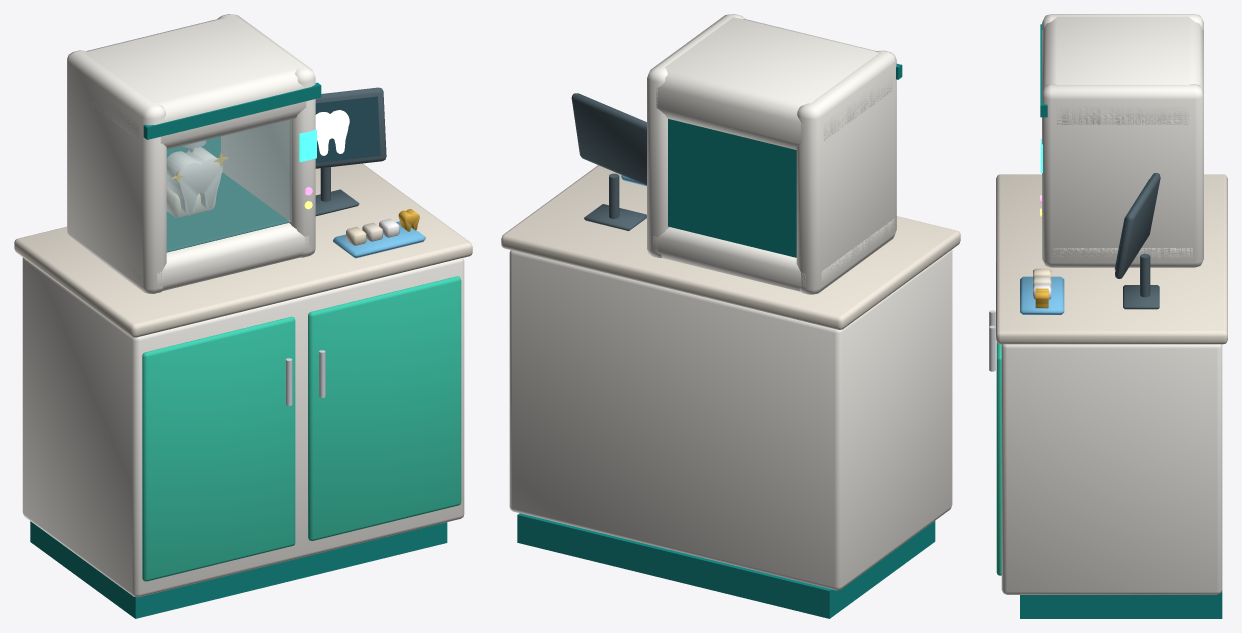
The model's file is cadcam_mill.glb.
3 views of the same model, side by side, from view 1: azimuth 30°, elevation 25°; view 2: azimuth 150°, elevation 25°; view 3: azimuth 270°, elevation 25° (orthographic). The views are drawn at different scales.
Visible parts, largest first — view 1: CadcamMill; view 2: CadcamMill; view 3: CadcamMill.
Part boxes in pixels (<box>): CadcamMill: <box>14,14,472,618</box>; CadcamMill: <box>501,14,960,618</box>; CadcamMill: <box>989,14,1227,618</box>.
Size of the model in its own units: 1.03 by 1.42 by 0.649.
